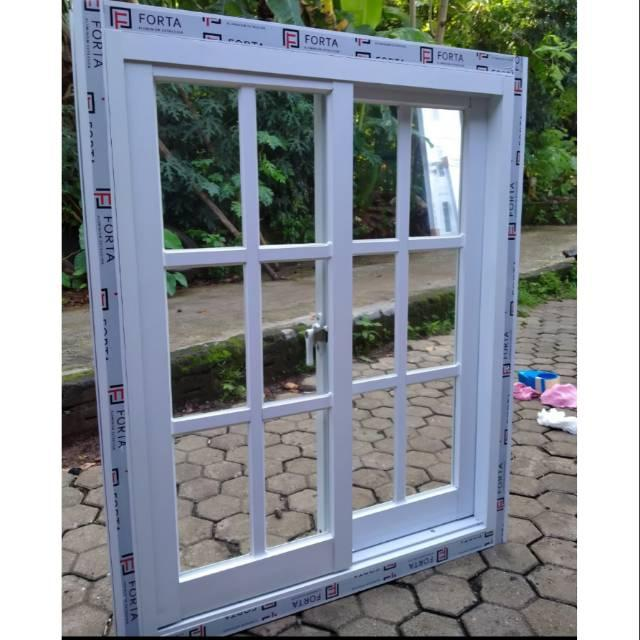PVC: (70, 0, 530, 640)
